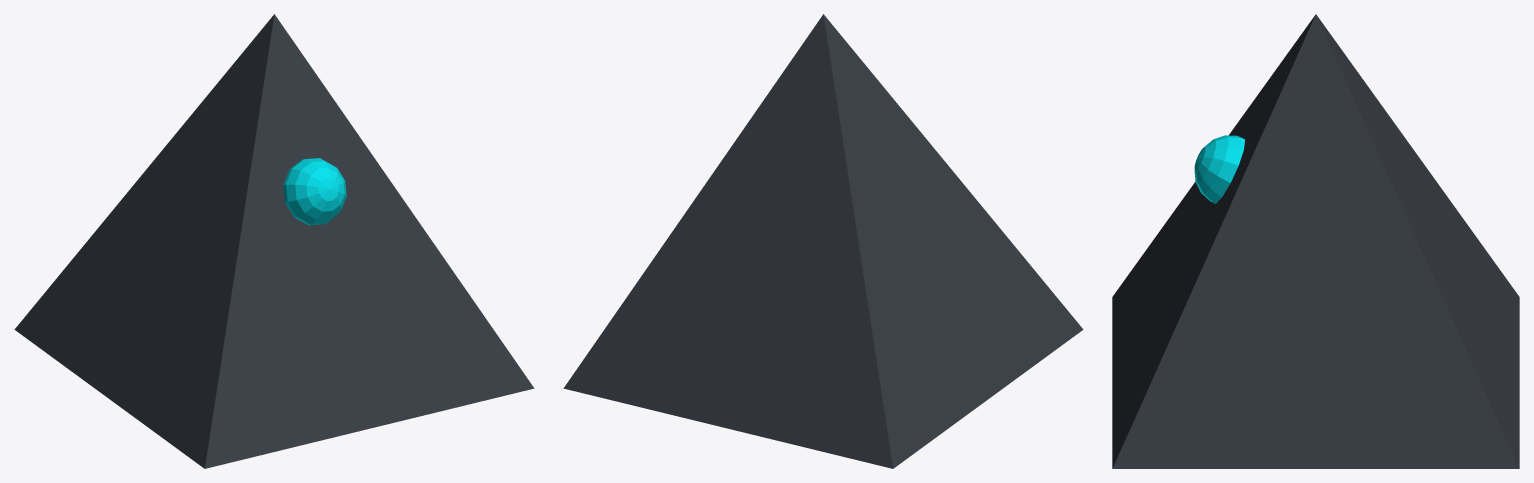
The model's file is Lora.fbx.
3 renders of one model, left to right at view 1: azimuth 30°, elevation 25°; view 2: azimuth 150°, elevation 25°; view 3: azimuth 270°, elevation 25°, orthographic. The views are drawn at different scales.
Parts seen in each view (by area): view 1: Cube, mesh_315606172; view 2: Cube; view 3: Cube, mesh_315606172.
Part boxes in pixels (x1=…): Cube: x1=14, y1=14, x2=534, y2=468; mesh_315606172: x1=283, y1=158, x2=346, y2=225; Cube: x1=563, y1=14, x2=1083, y2=468; Cube: x1=1112, y1=14, x2=1519, y2=468; mesh_315606172: x1=1194, y1=135, x2=1244, y2=203.
Bounding box in the file's own units: 200 × 200 × 200.
